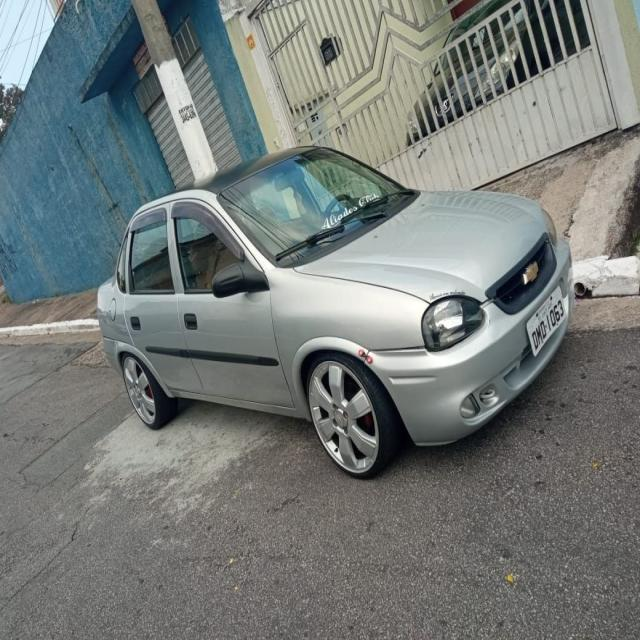Placas: (526, 282, 567, 359)
